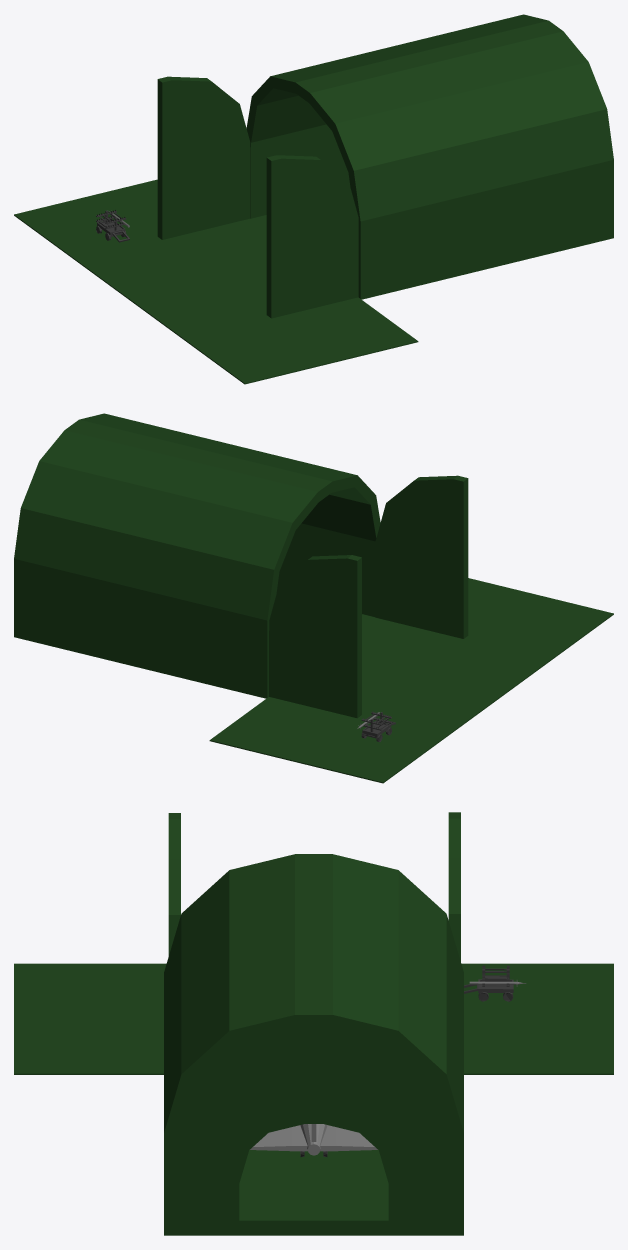
The model's file is anim-ais_pod.glb.
The picture shows the model from 3 angles, top to bottom: view 1: azimuth 30°, elevation 25°; view 2: azimuth 150°, elevation 25°; view 3: azimuth 270°, elevation 25°; orthographic projection. The views are drawn at different scales.
Visible parts, largest first — view 1: Igloo, M-4; view 2: Igloo, M-4; view 3: Igloo, TA-50, M-4.
Boxes of the visible parts, bbox=[...] form: Igloo: bbox=[14, 14, 613, 384]; M-4: bbox=[96, 210, 126, 240]; Igloo: bbox=[14, 413, 613, 783]; M-4: bbox=[361, 711, 391, 742]; Igloo: bbox=[14, 812, 613, 1235]; TA-50: bbox=[250, 1124, 377, 1157]; M-4: bbox=[478, 965, 513, 1001].
Bounding box in the file's own units: 142 × 54.14 × 133.
